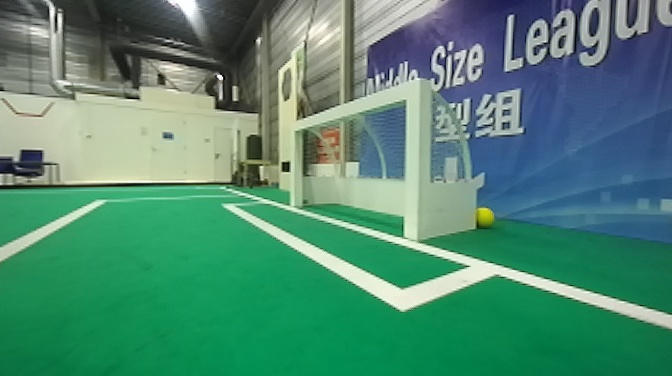ball: (470, 200, 500, 233)
goalpost: (395, 76, 433, 243), (280, 108, 313, 210)
